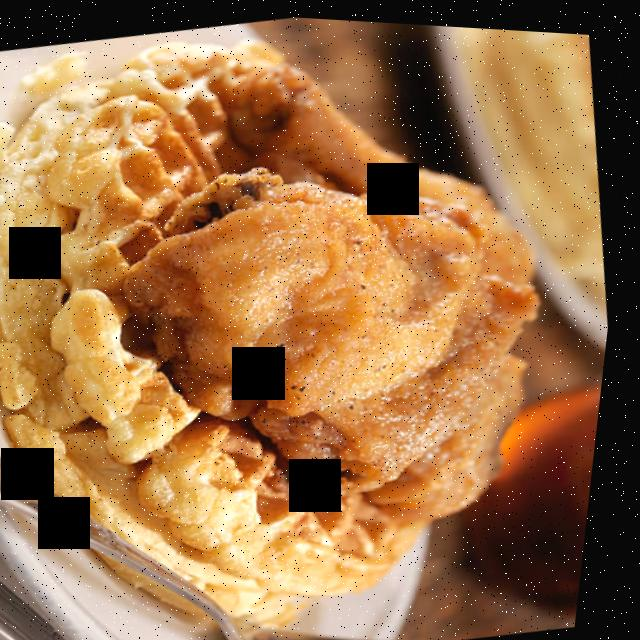Frango: (75, 7, 616, 571)
